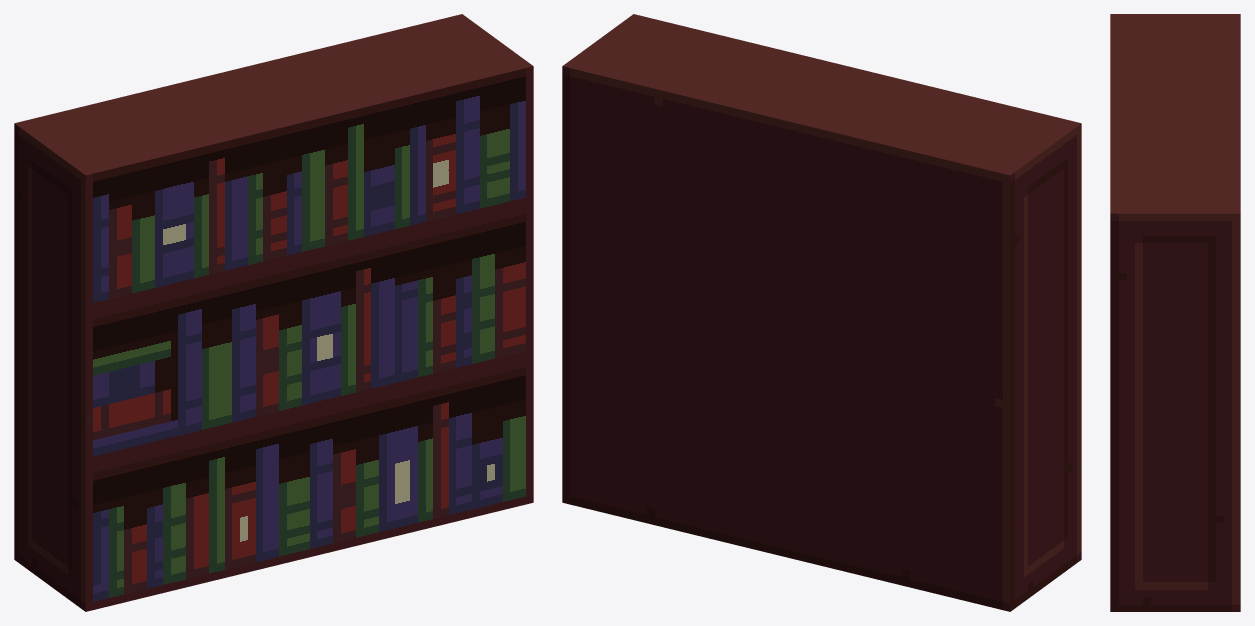
File: bookshelf_bigao.fezao.glb
The picture shows the model from 3 angles, left to right: view 1: azimuth 30°, elevation 25°; view 2: azimuth 150°, elevation 25°; view 3: azimuth 270°, elevation 25°; orthographic projection. The views are drawn at different scales.
Visible parts, largest first — view 1: BOOKSHELF_BIGAO; view 2: BOOKSHELF_BIGAO; view 3: BOOKSHELF_BIGAO.
Boxes of the visible parts, x1,y1,x2,y2 form: BOOKSHELF_BIGAO: (14,14,533,611); BOOKSHELF_BIGAO: (562,14,1081,611); BOOKSHELF_BIGAO: (1110,14,1240,611).
Bounding box in the file's own units: 3.62 × 3.38 × 1.
Materials: 1 (1 with a texture image).
